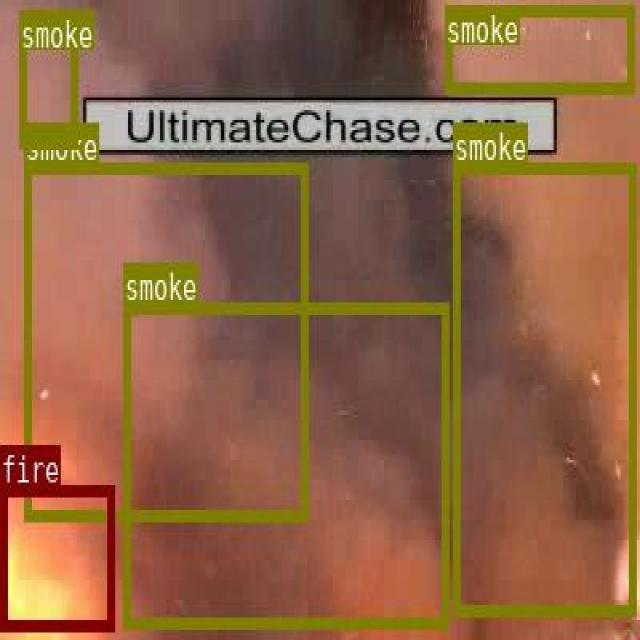fire: (0, 483, 114, 628)
smoke: (123, 302, 448, 627), (23, 161, 307, 518), (452, 160, 635, 614), (444, 4, 632, 92), (18, 10, 75, 146)
